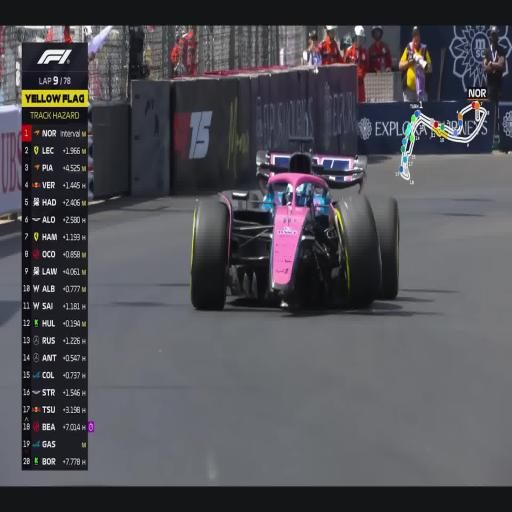f1_car: (190, 138, 399, 309)
